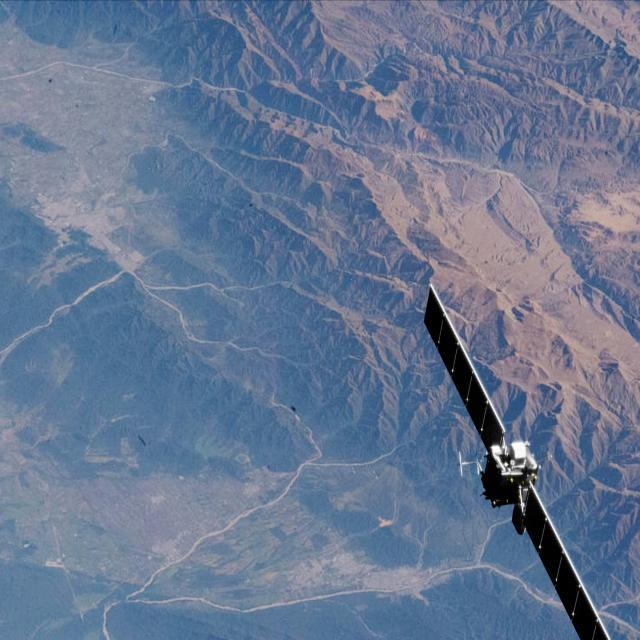satellite: (418, 284, 628, 640)
